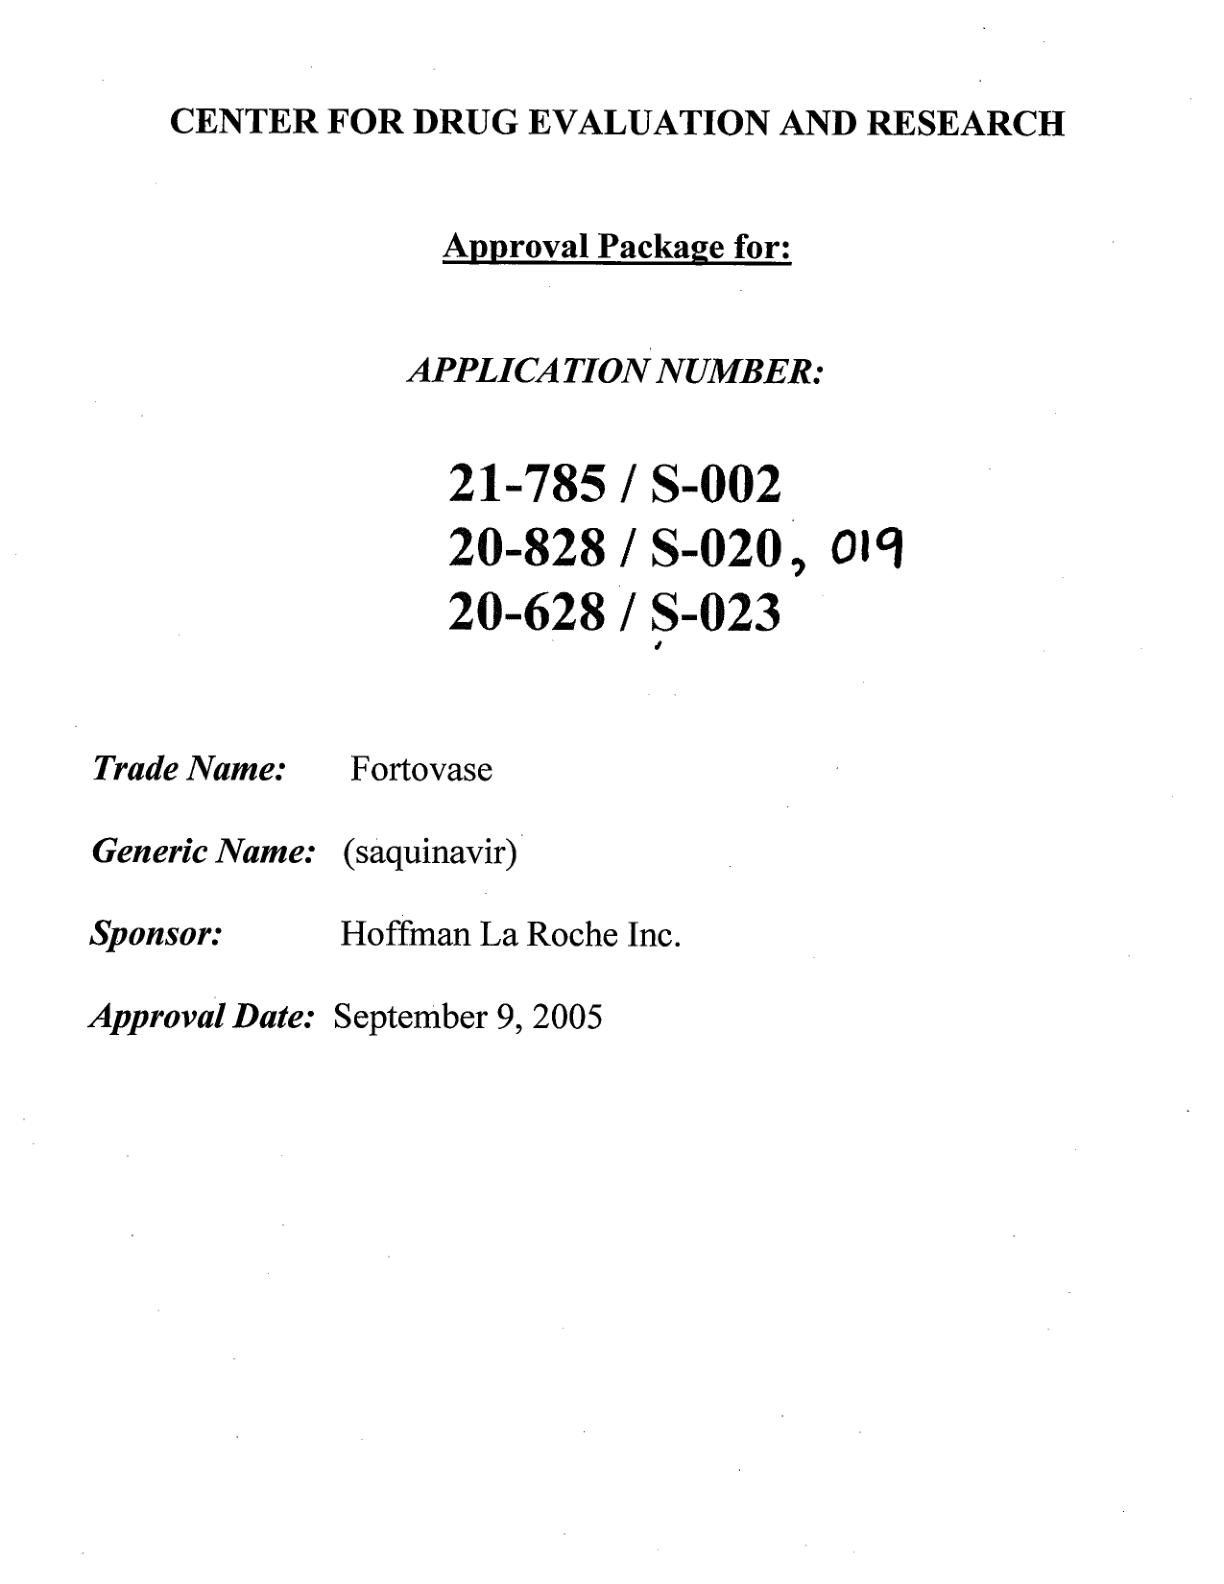nolines: (93, 750, 680, 1034)
